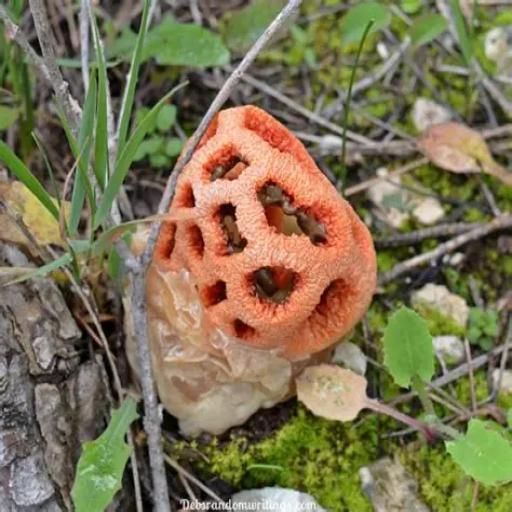Red Cage Fungus: (121, 101, 379, 439)
